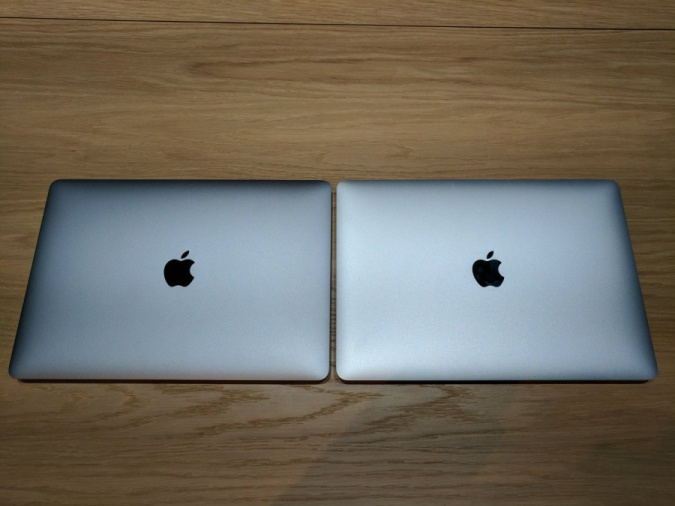apple: (141, 222, 218, 307), (447, 249, 509, 298)
